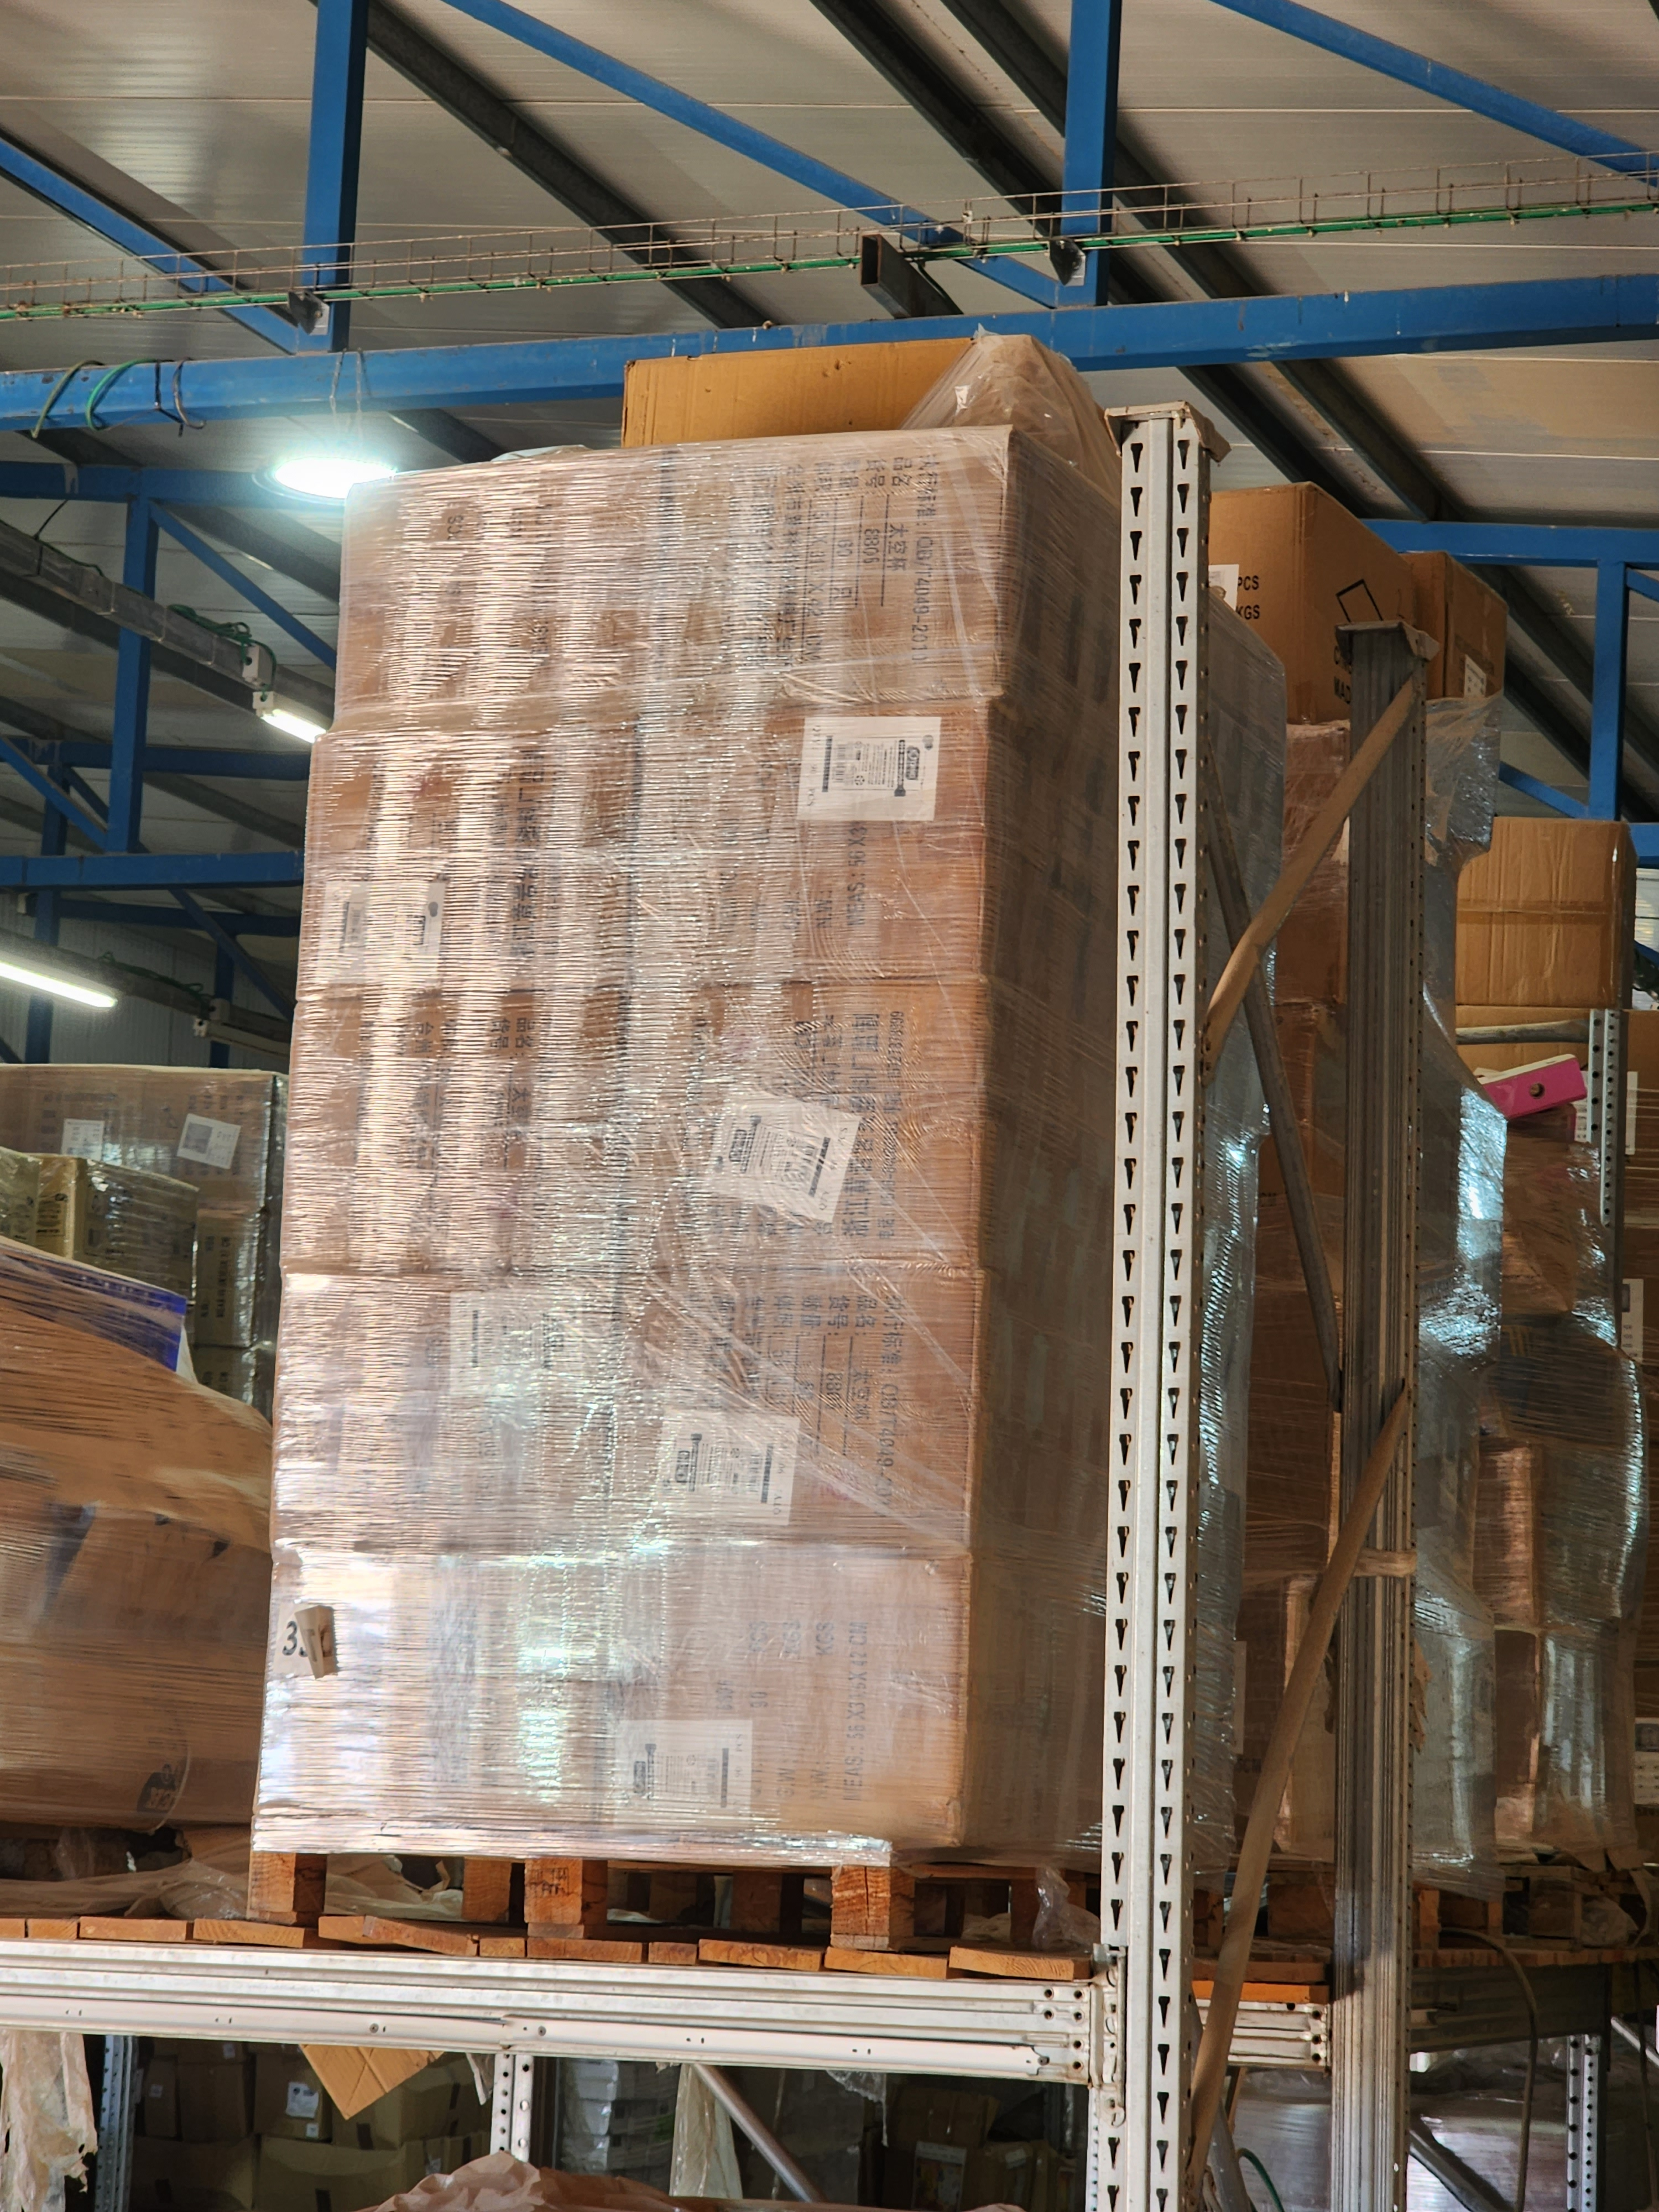box: (275, 345, 1079, 1878)
